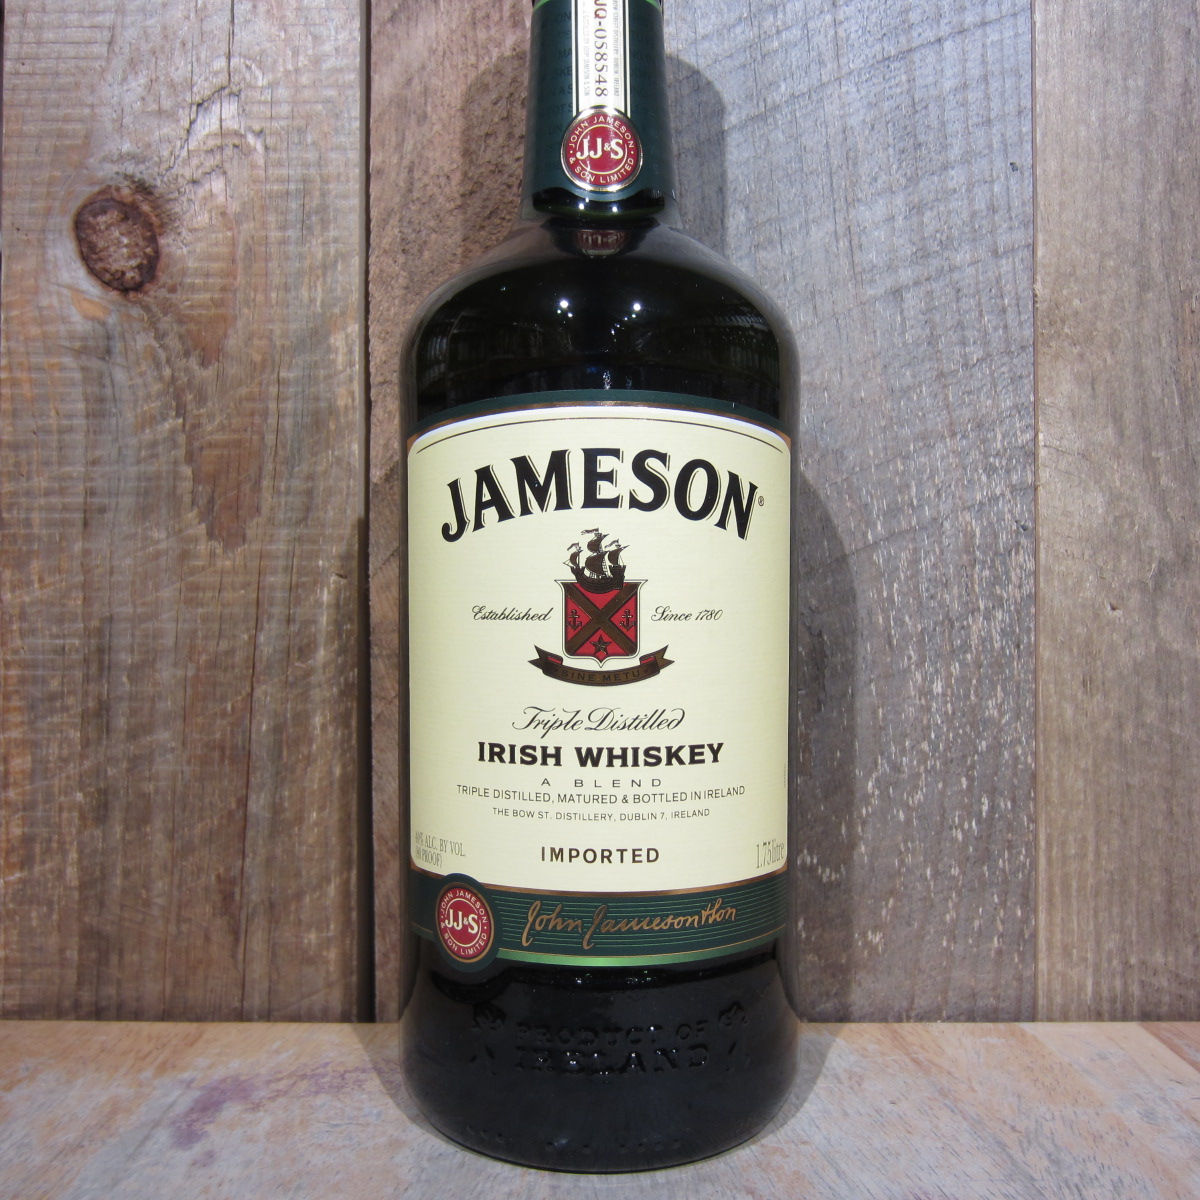Jameson: (384, 1, 813, 1174)
